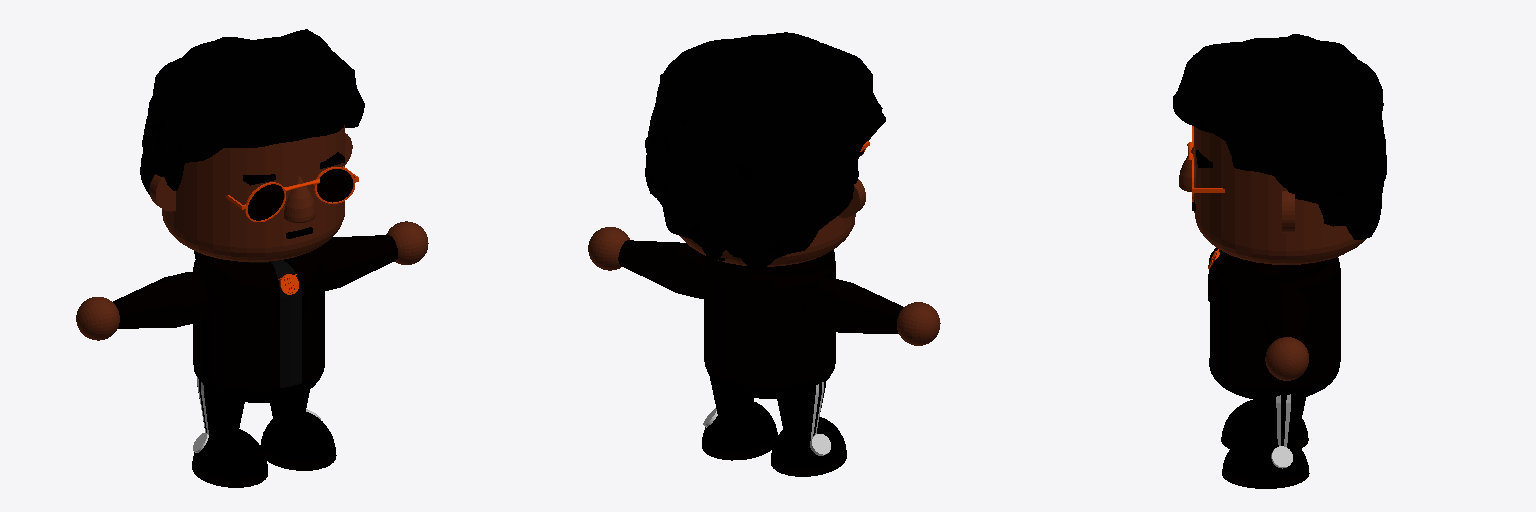
Rendered from Paaras.obj.
The picture shows the model from 3 angles: view 1: azimuth 30°, elevation 25°; view 2: azimuth 150°, elevation 25°; view 3: azimuth 270°, elevation 25°; orthographic projection.
Parts seen in each view (by area): view 1: Cylinder.005_Cylinder.008, Sphere.001_Sphere.007, Cylinder.007_Cylinder.010, Cylinder.009_Cylinder.012, Cylinder.006_Cylinder.009, Cylinder.008_Cylinder.011; view 2: Cylinder.005_Cylinder.008, Sphere.001_Sphere.007, Cylinder.007_Cylinder.010, Cylinder.009_Cylinder.012, Cylinder.006_Cylinder.009, Cylinder.008_Cylinder.011; view 3: Cylinder.005_Cylinder.008, Sphere.001_Sphere.007, Cylinder.008_Cylinder.011, Cylinder.006_Cylinder.009, Cylinder.009_Cylinder.012.
Boxes of the visible parts, x1,y1,x2,y2 form: Cylinder.005_Cylinder.008: [140, 29, 364, 261]; Sphere.001_Sphere.007: [193, 247, 324, 402]; Cylinder.007_Cylinder.010: [76, 272, 208, 340]; Cylinder.009_Cylinder.012: [192, 377, 320, 487]; Cylinder.006_Cylinder.009: [321, 221, 428, 290]; Cylinder.008_Cylinder.011: [260, 390, 336, 470]; Cylinder.005_Cylinder.008: [645, 32, 885, 268]; Sphere.001_Sphere.007: [704, 250, 835, 398]; Cylinder.007_Cylinder.010: [802, 277, 940, 345]; Cylinder.009_Cylinder.012: [703, 382, 846, 476]; Cylinder.006_Cylinder.009: [588, 227, 705, 298]; Cylinder.008_Cylinder.011: [702, 377, 777, 460]; Cylinder.005_Cylinder.008: [1173, 34, 1386, 264]; Sphere.001_Sphere.007: [1208, 248, 1340, 399]; Cylinder.008_Cylinder.011: [1222, 394, 1309, 488]; Cylinder.006_Cylinder.009: [1261, 290, 1312, 380]; Cylinder.009_Cylinder.012: [1221, 400, 1308, 468].
Bounding box in the file's own units: 2.74 × 3.03 × 1.47.